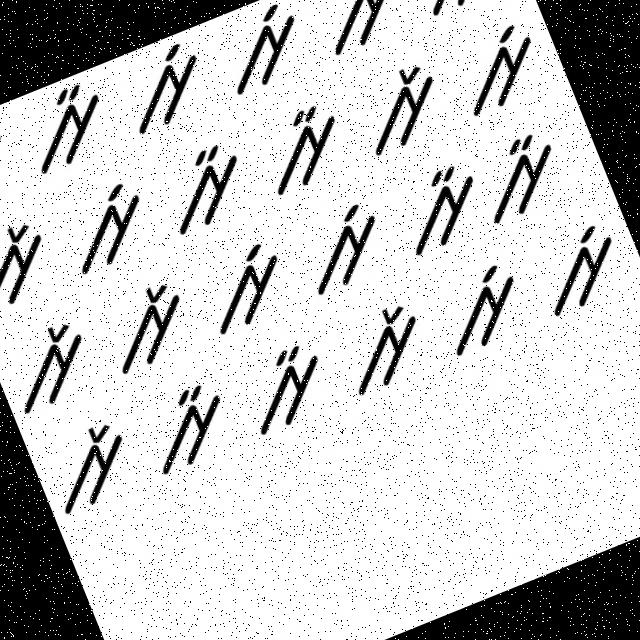wan: (225, 332, 345, 452), (465, 115, 583, 234), (382, 154, 497, 270), (148, 133, 263, 248), (244, 92, 360, 206), (11, 72, 128, 182), (130, 369, 245, 480), (304, 0, 417, 61)
wang: (283, 185, 403, 306), (520, 210, 638, 327), (46, 174, 164, 284), (111, 35, 224, 146), (429, 252, 538, 365), (444, 12, 555, 122), (189, 231, 300, 340), (204, 0, 318, 104)
war: (322, 290, 444, 410), (344, 50, 462, 172), (90, 269, 206, 382), (35, 407, 146, 522), (0, 310, 105, 421), (0, 213, 65, 320), (401, 0, 519, 30), (0, 112, 29, 230)
